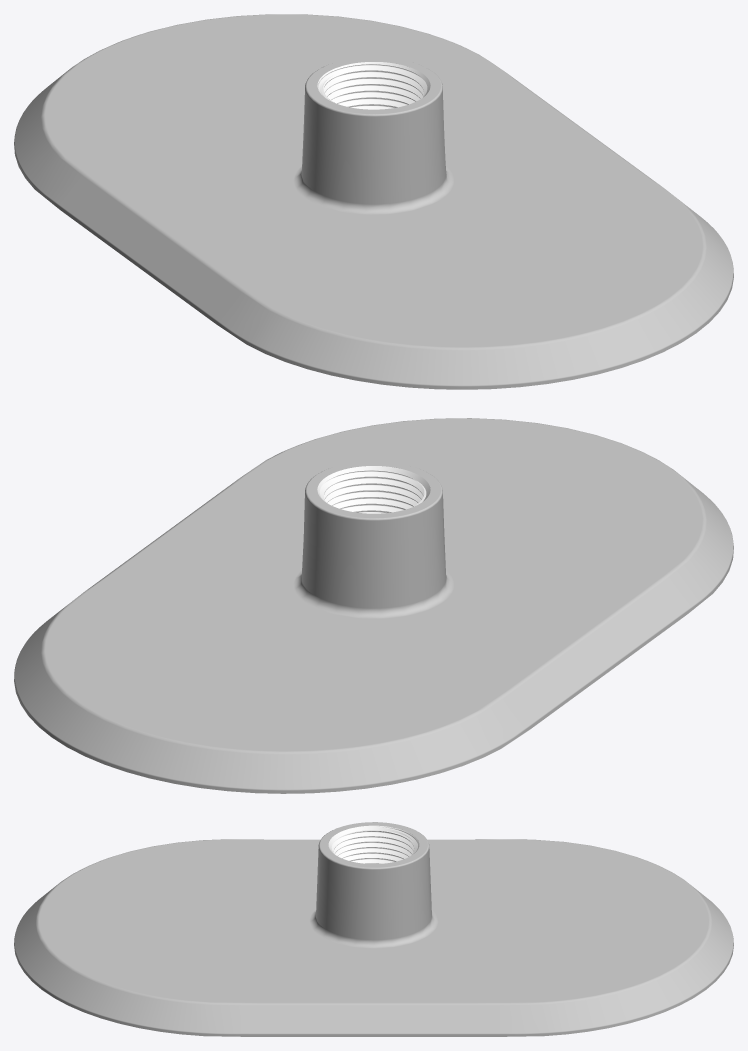
File: uacc-ai-ms-2-pm.glb
3 renders of one model, top to bottom at view 1: azimuth 30°, elevation 25°; view 2: azimuth 150°, elevation 25°; view 3: azimuth 270°, elevation 25°, orthographic. The views are drawn at different scales.
Visible parts, largest first — view 1: Main; view 2: Main; view 3: Main.
Boxes of the visible parts, left/top/right/bottom form: Main: left=14, top=14, right=733, bottom=389; Main: left=14, top=418, right=733, bottom=793; Main: left=14, top=822, right=733, bottom=1036.
Bounding box in the file's own units: 0.132 × 0.0347 × 0.218.
2 materials, 1 textured.
